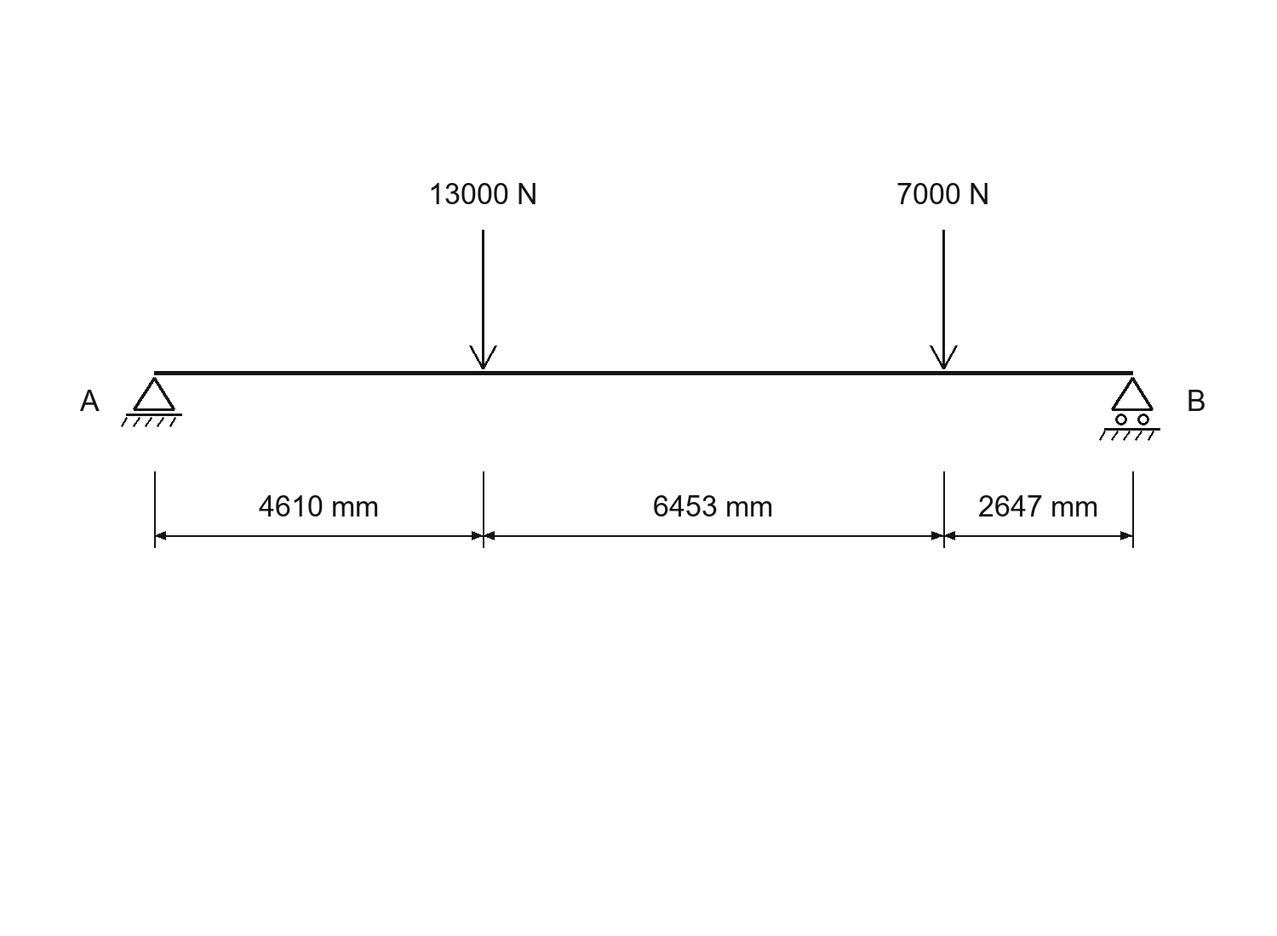pin_support: (121, 377, 182, 427)
point_load: (469, 230, 497, 369), (930, 230, 958, 369)
roller_support: (1099, 377, 1160, 441)
